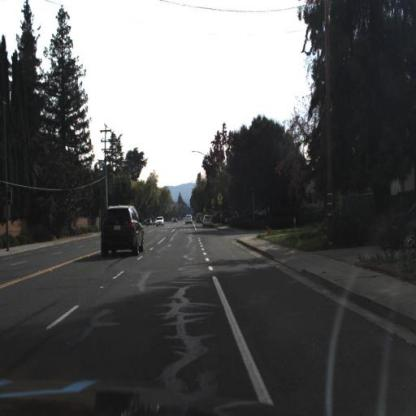car: (96, 200, 148, 260), (184, 213, 196, 229), (204, 215, 216, 230), (156, 215, 166, 227)
